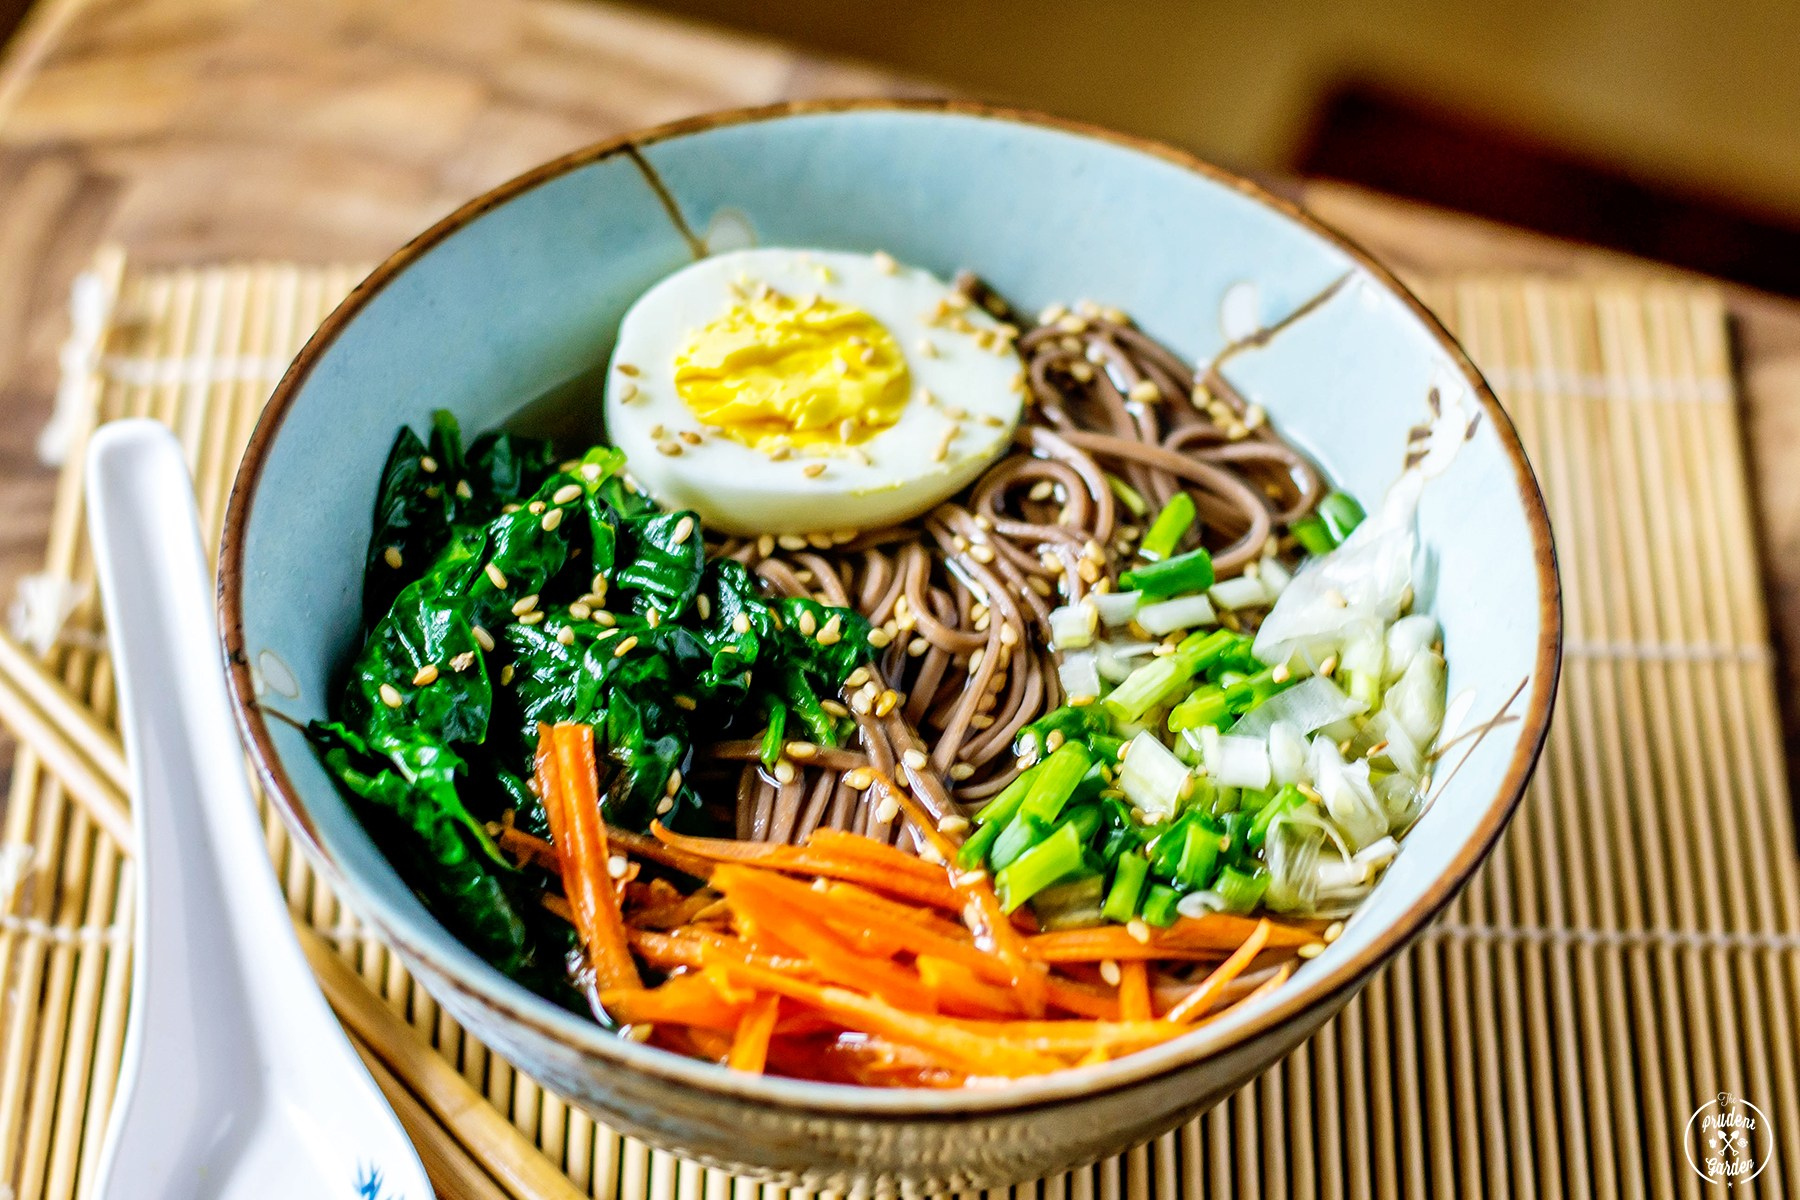Soba: (370, 289, 1476, 1114)
